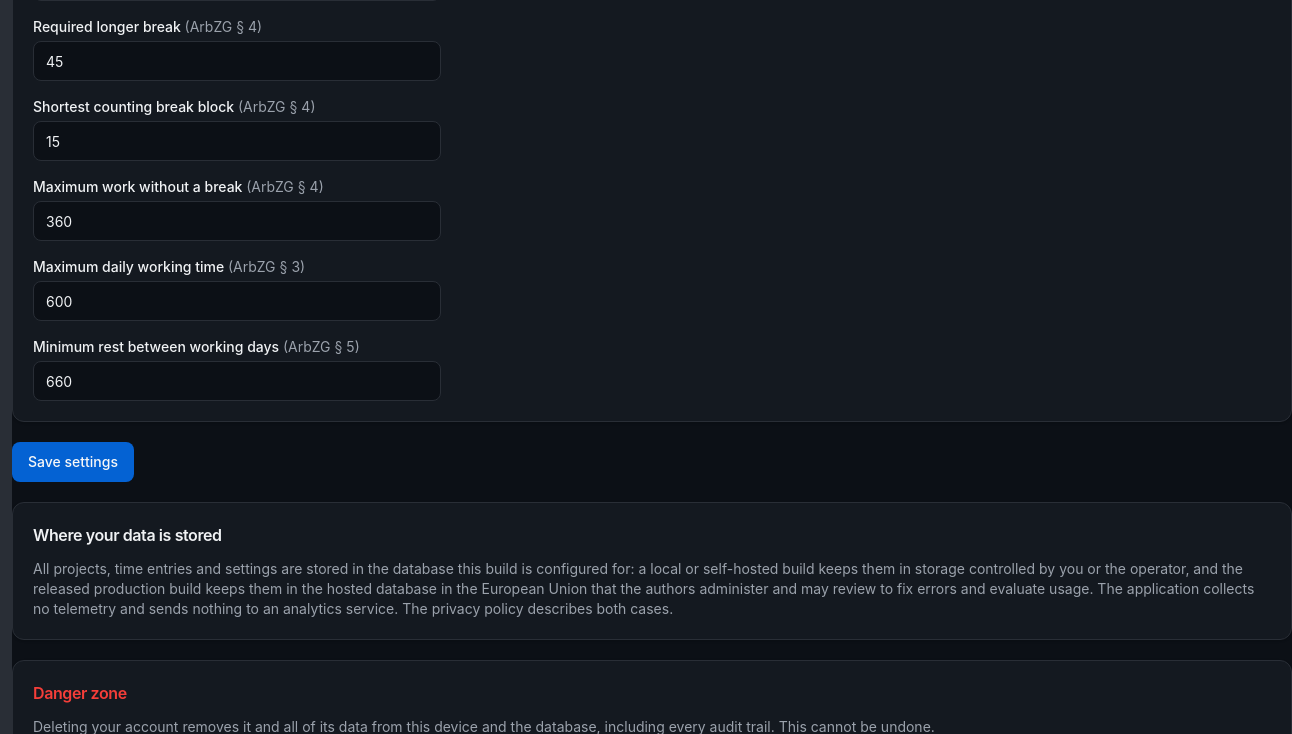
it: SettingsPage › restores the German defaults
(page scrolled)
Step 1. Replace the text in the number field labelled "Minimum rest between working days (ArbZG § 5)" with "600" → (237, 381), box [33,361,441,401]
(page scrolled)
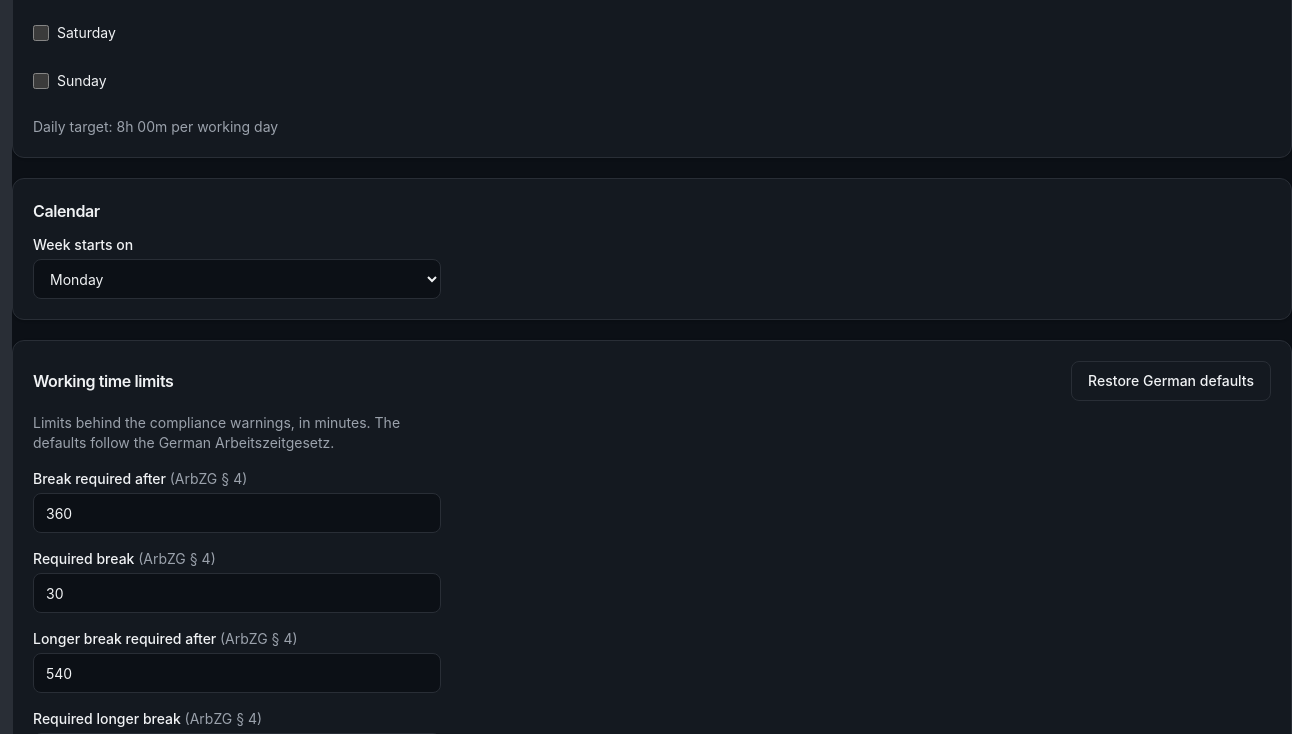
Now the button "Restore German defaults" is enabled
Step 2. Click the button "Restore German defaults" → (1171, 381), box [1071,361,1271,401]
(page scrolled)
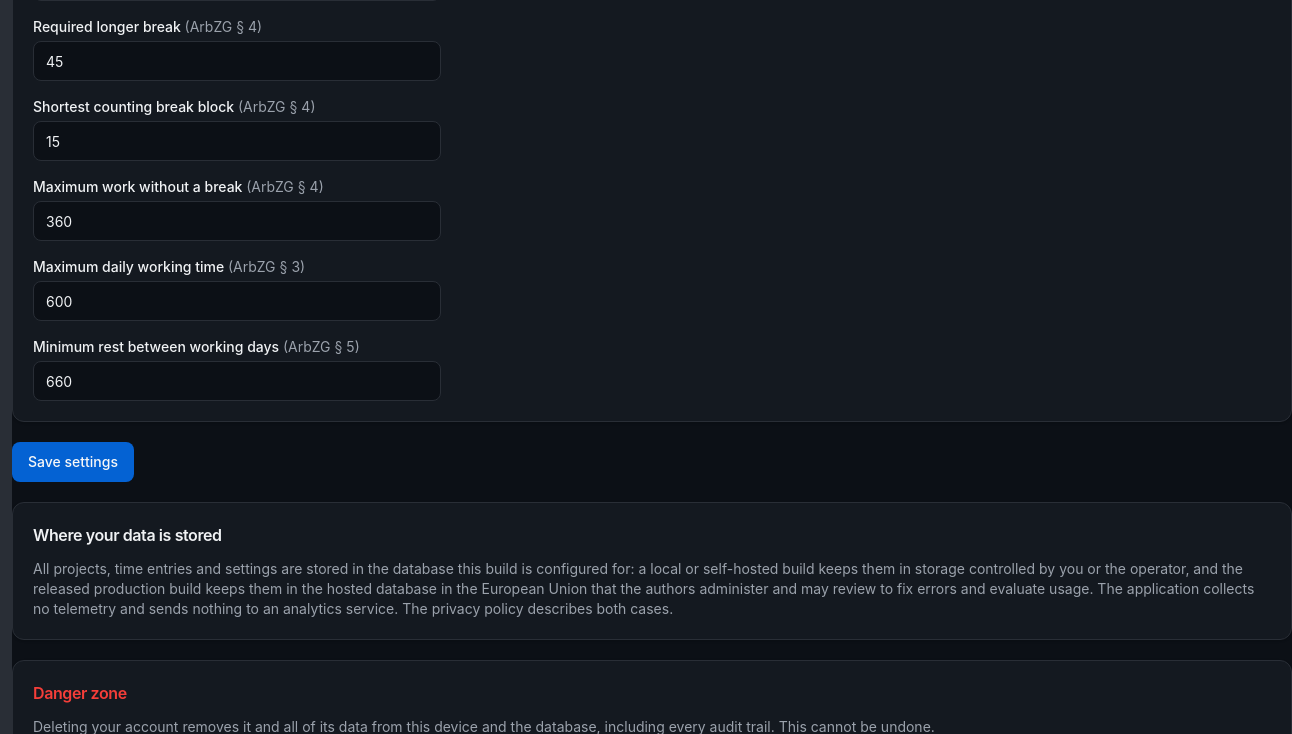
Now the number field labelled "Minimum rest between working days (ArbZG § 5)" holds "660", box [33,361,441,401]
